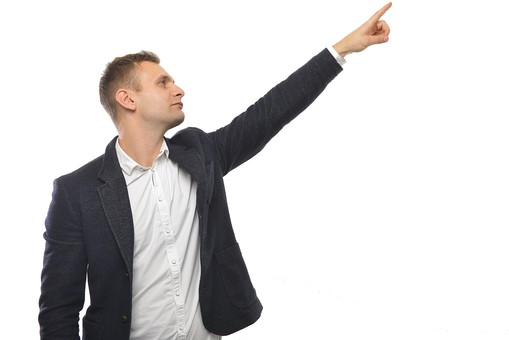face: (115, 59, 186, 128)
hand: (335, 1, 394, 57)
